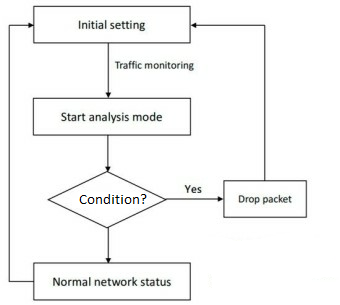arrow: (189, 20, 267, 181), (5, 21, 40, 284), (103, 41, 113, 97), (161, 195, 224, 203), (104, 224, 112, 263), (104, 134, 111, 172)
decision: (46, 170, 166, 229)
process: (30, 95, 194, 139), (30, 260, 193, 303), (31, 3, 193, 46), (221, 178, 309, 220)
text: (58, 110, 164, 125), (50, 275, 172, 288), (113, 59, 196, 72), (75, 17, 146, 32), (78, 192, 147, 206), (236, 193, 292, 205), (183, 183, 202, 193)
